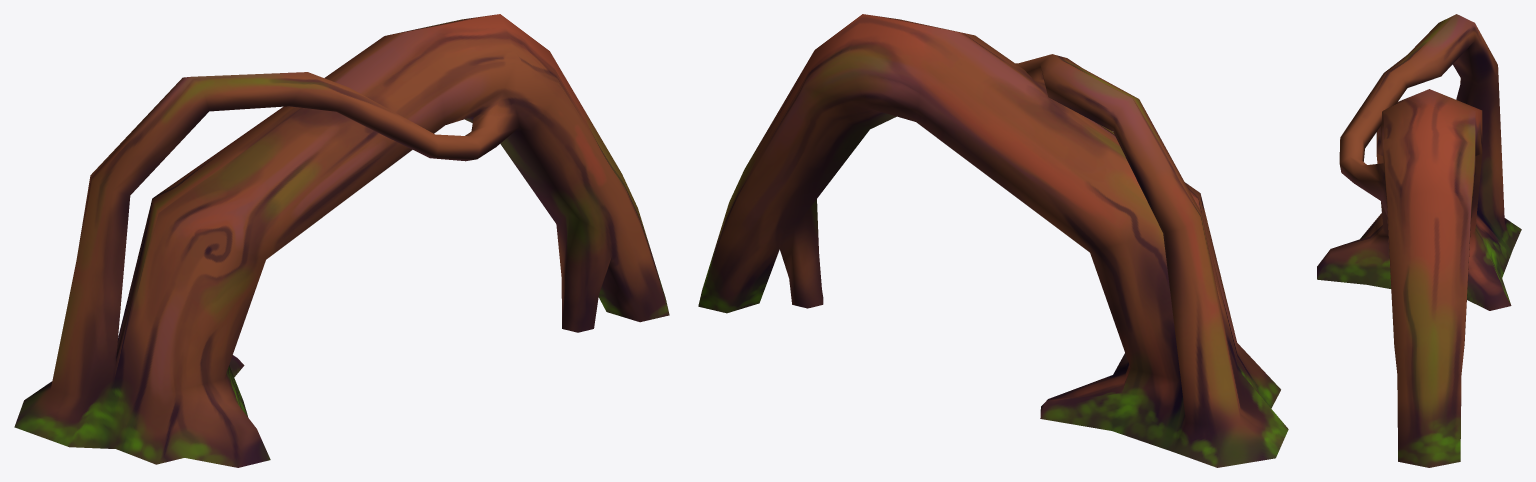
The model's file is TreeArch.fbx.
3 views of the same model, side by side, from view 1: azimuth 30°, elevation 25°; view 2: azimuth 150°, elevation 25°; view 3: azimuth 270°, elevation 25° (orthographic). The views are drawn at different scales.
Visible parts, largest first — view 1: TreeArch; view 2: TreeArch; view 3: TreeArch.
Boxes of the visible parts, x1,y1,x2,y2 form: TreeArch: [14, 14, 669, 467]; TreeArch: [698, 14, 1288, 467]; TreeArch: [1317, 14, 1521, 467].
Size of the model in its own units: 7.3 by 3.7 by 2.5.
